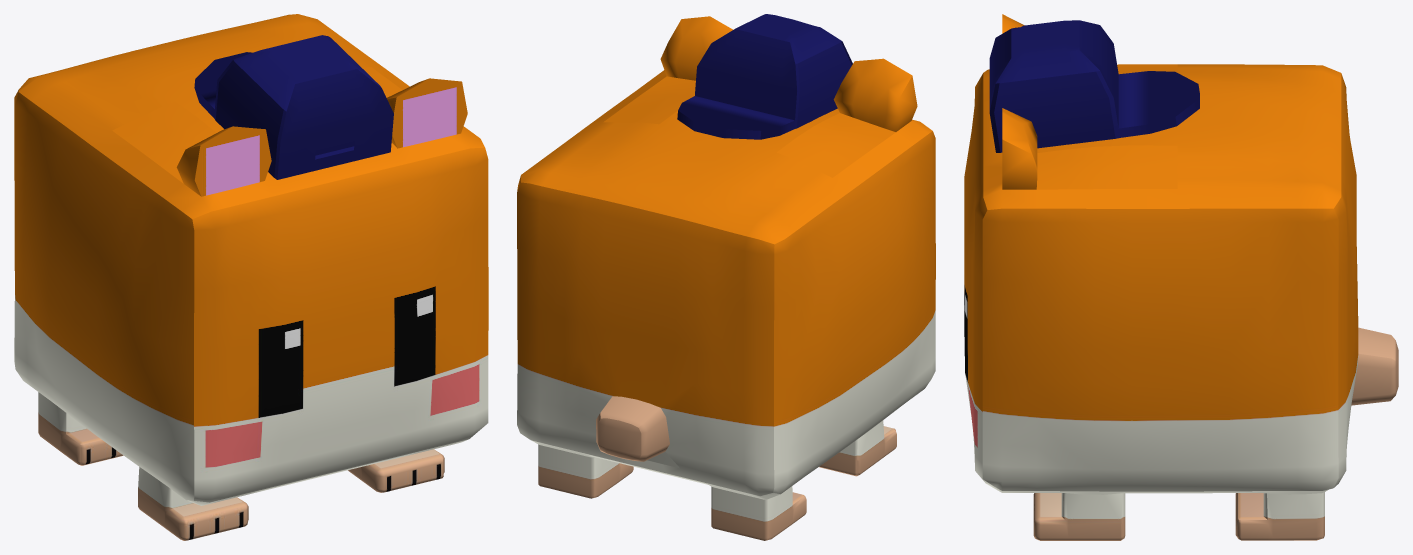
File: CapBackEat.fbx
3 views of the same model, side by side, from view 1: azimuth 30°, elevation 25°; view 2: azimuth 150°, elevation 25°; view 3: azimuth 270°, elevation 25° (orthographic). The views are drawn at different scales.
Visible parts, largest first — view 1: CAP:pCube9; view 2: CAP:pCube9; view 3: CAP:pCube9.
Part boxes in pixels (bbox=[...]): CAP:pCube9: bbox=[14, 14, 488, 540]; CAP:pCube9: bbox=[517, 14, 935, 540]; CAP:pCube9: bbox=[964, 14, 1398, 540].
Size of the model in its own units: 4.23 by 5.5 by 4.81.
